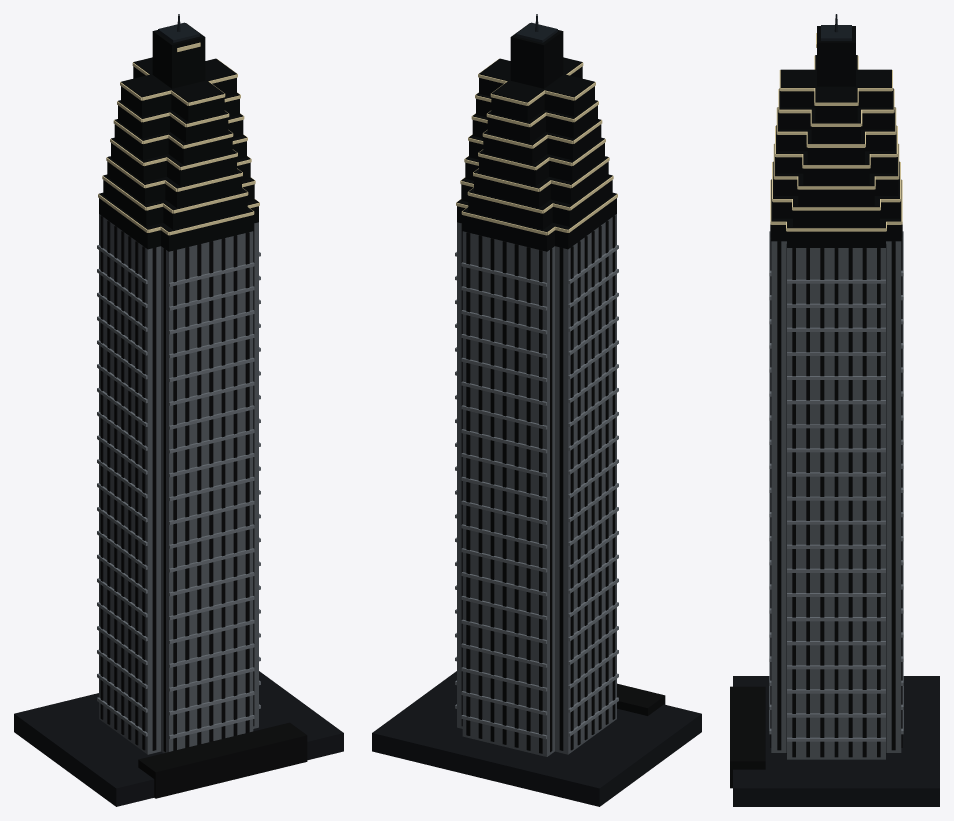
Rendered from atl-truist-plaza.glb.
3 renders of one model, left to right at view 1: azimuth 30°, elevation 25°; view 2: azimuth 150°, elevation 25°; view 3: azimuth 270°, elevation 25°, orthographic.
Parts seen in each view (by area): view 1: truist-tower, truist-crown-glow; view 2: truist-tower, truist-crown-glow; view 3: truist-tower, truist-crown-glow.
Boxes of the visible parts, <box> form: truist-tower: <box>14,14,343,806</box>; truist-crown-glow: <box>98,42,259,235</box>; truist-tower: <box>372,14,701,806</box>; truist-crown-glow: <box>456,59,617,235</box>; truist-tower: <box>730,14,939,806</box>; truist-crown-glow: <box>770,33,902,231</box>.
Bounding box in the file's own units: 90 × 275 × 71.
